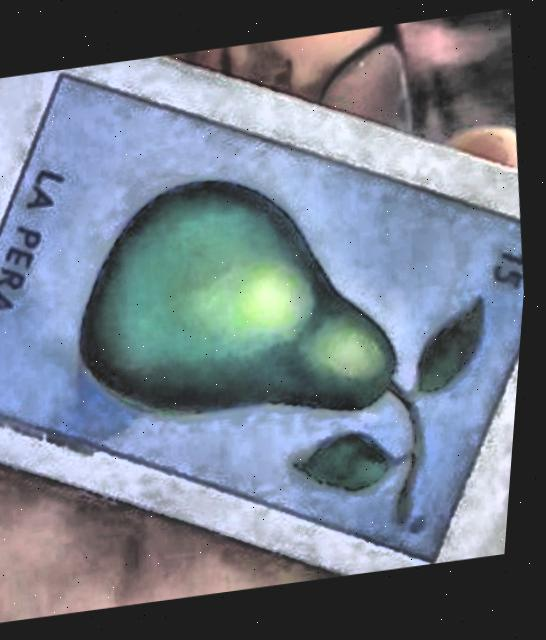La Pera: (0, 71, 528, 565)
